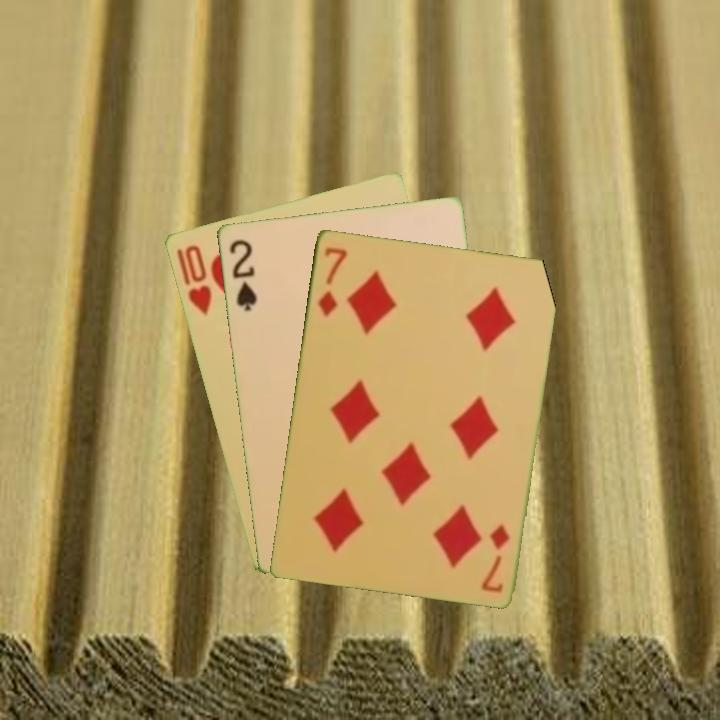10h: (172, 241, 214, 318)
2s: (225, 236, 259, 314)
7d: (314, 243, 350, 319), (478, 520, 512, 595)
